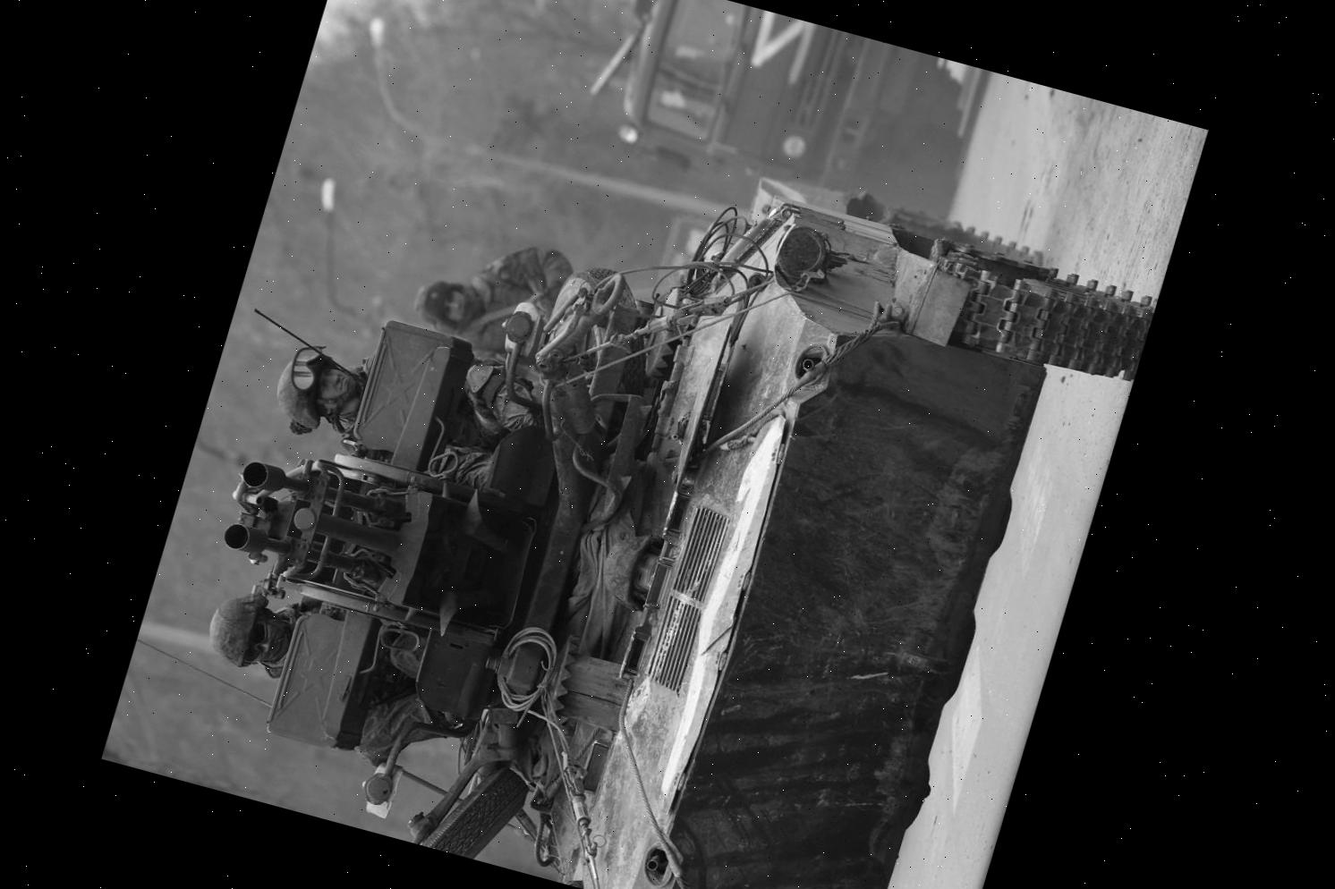tank: (176, 99, 1161, 889)
truck: (599, 0, 1003, 221)
